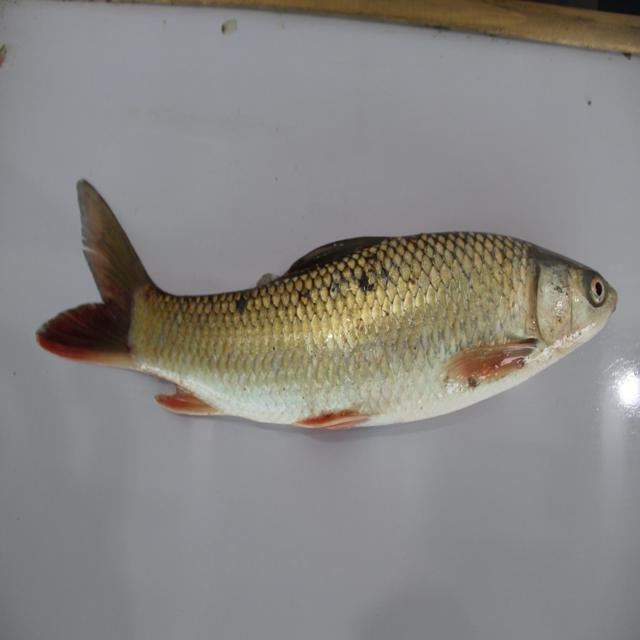Mori: (32, 152, 616, 451)
